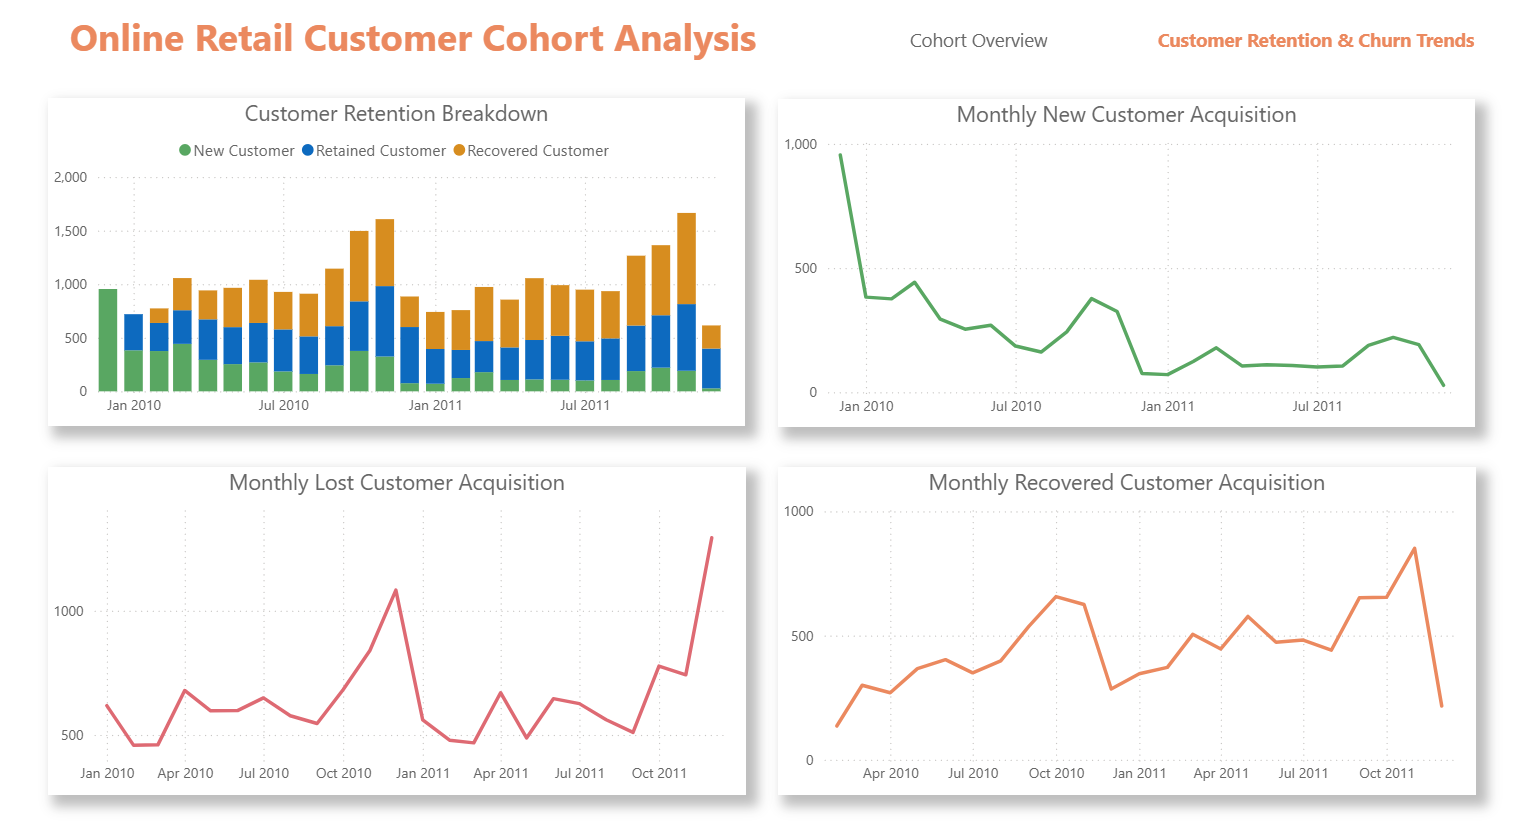

The page's visual inventory and layout, read from the dashboard file:
{"tool":"powerbi","page":{"name":"Customer Retention & Churn Trends","canvas":[1280,720],"ordinal":1},"visuals":[{"type":"textbox","box":[24.5,13.5,628.5,61.1],"z":1000},{"type":"columnChart","title":"Customer Retention Breakdown","fields":{"Category":["DimDate.Start Of Month"],"Y":["_Measures.New Customer","_Measures.Retained Customer","_Measures.Recovered Customer"]},"box":[24.5,93.2,600,282.5],"z":1001},{"type":"lineChart","title":"Monthly New Customer Acquisition","fields":{"Category":["DimDate.Start Of Month"],"Y":["_Measures.New Customer"]},"box":[653,94.4,600,282.5],"z":1003},{"type":"lineChart","title":"Monthly Lost Customer Acquisition","fields":{"Category":["DimDate.Start Of Month"],"Y":["_Measures.Lost Customer"]},"box":[24.5,410.5,600.4,282.5],"z":1004},{"type":"lineChart","title":"Monthly Recovered Customer Acquisition","fields":{"Category":["DimDate.Start Of Month"],"Y":["_Measures.Recovered Customer"]},"box":[653,410.5,600.4,282.5],"z":1005},{"type":"pageNavigator","box":[681.1,18.3,580.8,50.1],"z":1006}]}

Visuals, with their boxes on the page's 1280x720 design canvas (x1, y1, x2, y2). These are canvas units, not pixel positions in the 1527x822 screenshot, which may show the page scaled, cropped or inside an application window:
textbox: select_region(24, 14, 653, 75)
"Customer Retention Breakdown" columnChart: select_region(24, 93, 624, 376)
"Monthly New Customer Acquisition" lineChart: select_region(653, 94, 1253, 377)
"Monthly Lost Customer Acquisition" lineChart: select_region(24, 410, 625, 693)
"Monthly Recovered Customer Acquisition" lineChart: select_region(653, 410, 1253, 693)
pageNavigator: select_region(681, 18, 1262, 68)
